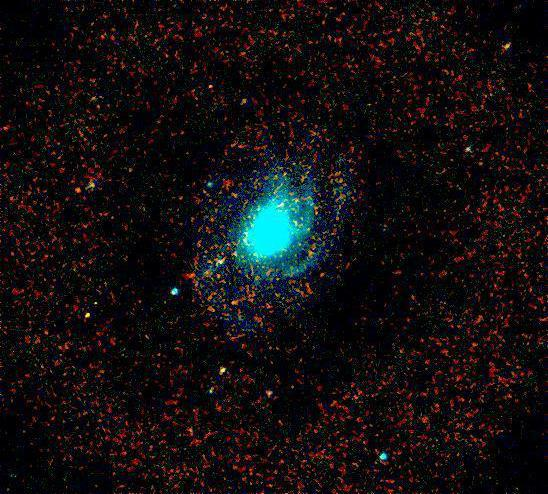star: (60, 177, 90, 207)
